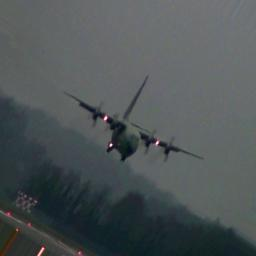Airplane: (65, 73, 206, 164)
